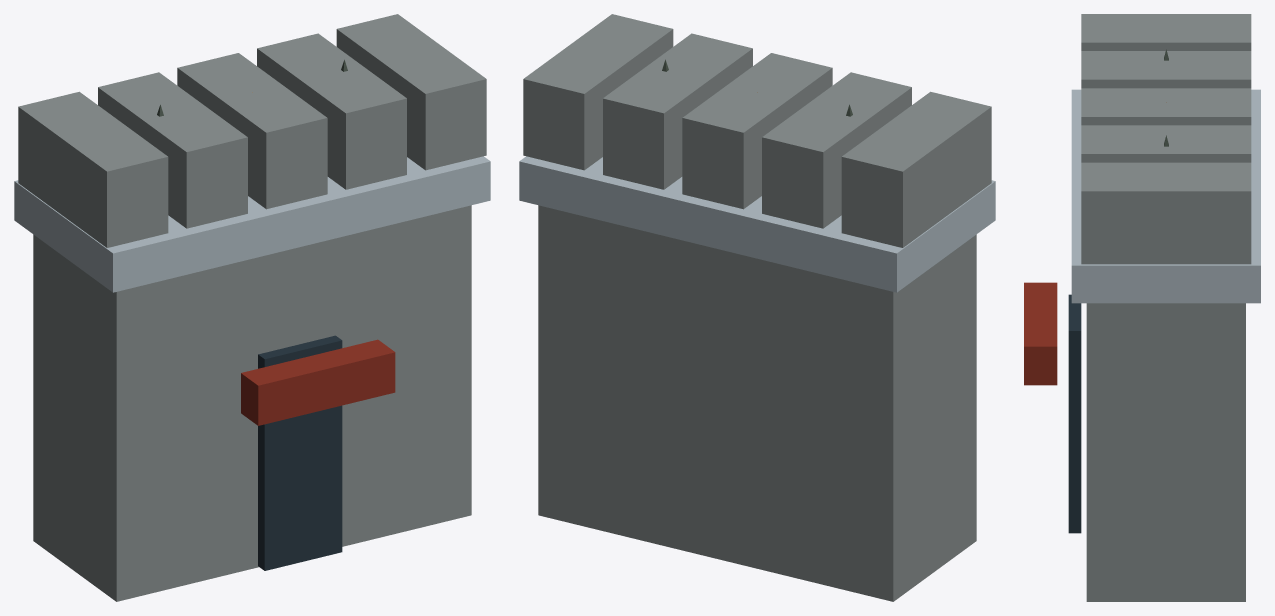
Rendered from defense.obj.
3 views of the same model, side by side, from view 1: azimuth 30°, elevation 25°; view 2: azimuth 150°, elevation 25°; view 3: azimuth 270°, elevation 25° (orthographic). The views are drawn at different scales.
Visible parts, largest first — view 1: defense; view 2: defense; view 3: defense.
Boxes of the visible parts, x1,y1,x2,y2 form: defense: (14, 14, 490, 601); defense: (519, 14, 995, 601); defense: (1024, 14, 1260, 601).
Size of the model in its own units: 2.27 by 2.55 by 1.28.
